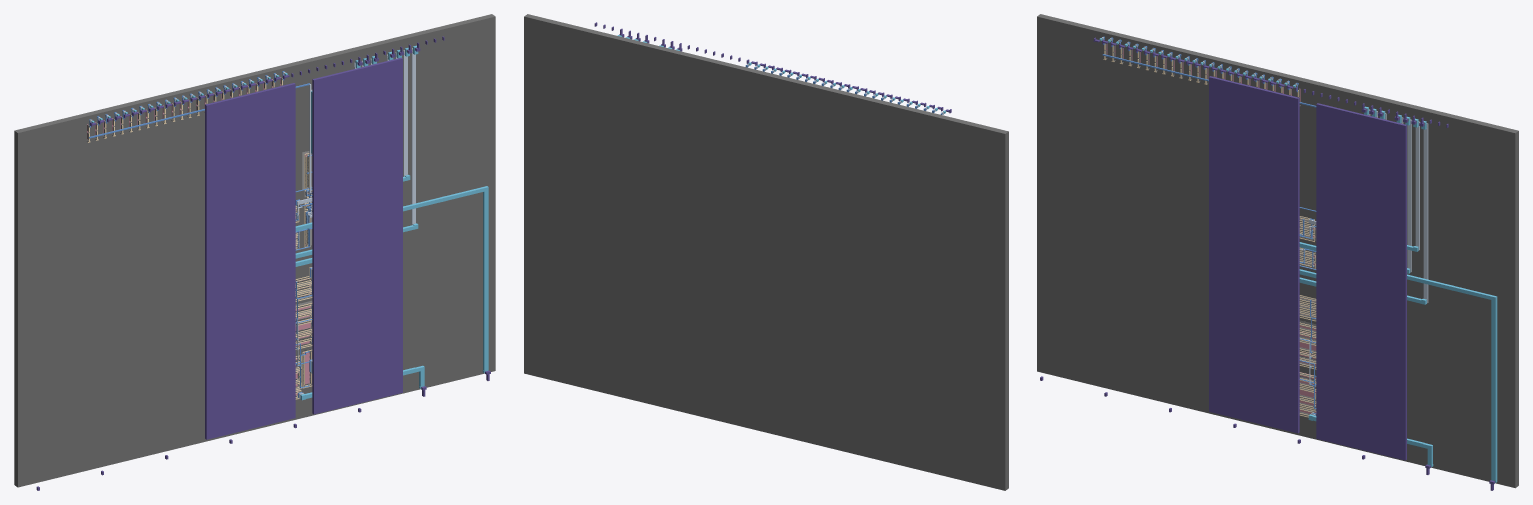
Rendered from tt_um_tt05_analog_test.gds.gltf.
3 views of the same model, side by side, from view 1: azimuth 30°, elevation 25°; view 2: azimuth 150°, elevation 25°; view 3: azimuth 330°, elevation 25° (orthographic).
Parts seen in each view (by area): view 1: tt_um_tt05_analog_test_substrate, tt_um_tt05_analog_test_met4, tt_um_tt05_analog_test_met3, tt_um_tt05_analog_test_met2, tt_um_tt05_analog_test_met1; view 2: tt_um_tt05_analog_test_substrate, tt_um_tt05_analog_test_met4, XRSTR_0_xdac_substrate; view 3: tt_um_tt05_analog_test_substrate, tt_um_tt05_analog_test_met4, tt_um_tt05_analog_test_met3, tt_um_tt05_analog_test_met2, tt_um_tt05_analog_test_met1.
Part boxes in pixels (box(x1,y1,x2,y2)): tt_um_tt05_analog_test_substrate: box(14, 14, 495, 487); tt_um_tt05_analog_test_met4: box(36, 36, 490, 490); tt_um_tt05_analog_test_met3: box(91, 45, 488, 400); tt_um_tt05_analog_test_met2: box(90, 48, 415, 398); tt_um_tt05_analog_test_met1: box(89, 71, 312, 397); tt_um_tt05_analog_test_substrate: box(524, 14, 1008, 490); tt_um_tt05_analog_test_met4: box(594, 22, 951, 113); XRSTR_0_xdac_substrate: box(766, 198, 786, 236); tt_um_tt05_analog_test_substrate: box(1037, 14, 1518, 488); tt_um_tt05_analog_test_met4: box(1040, 37, 1494, 490); tt_um_tt05_analog_test_met3: box(1099, 38, 1497, 482); tt_um_tt05_analog_test_met2: box(1101, 37, 1428, 415); tt_um_tt05_analog_test_met1: box(1102, 36, 1316, 415).
Size of the model in its own units: 157 by 112 by 6.87.
